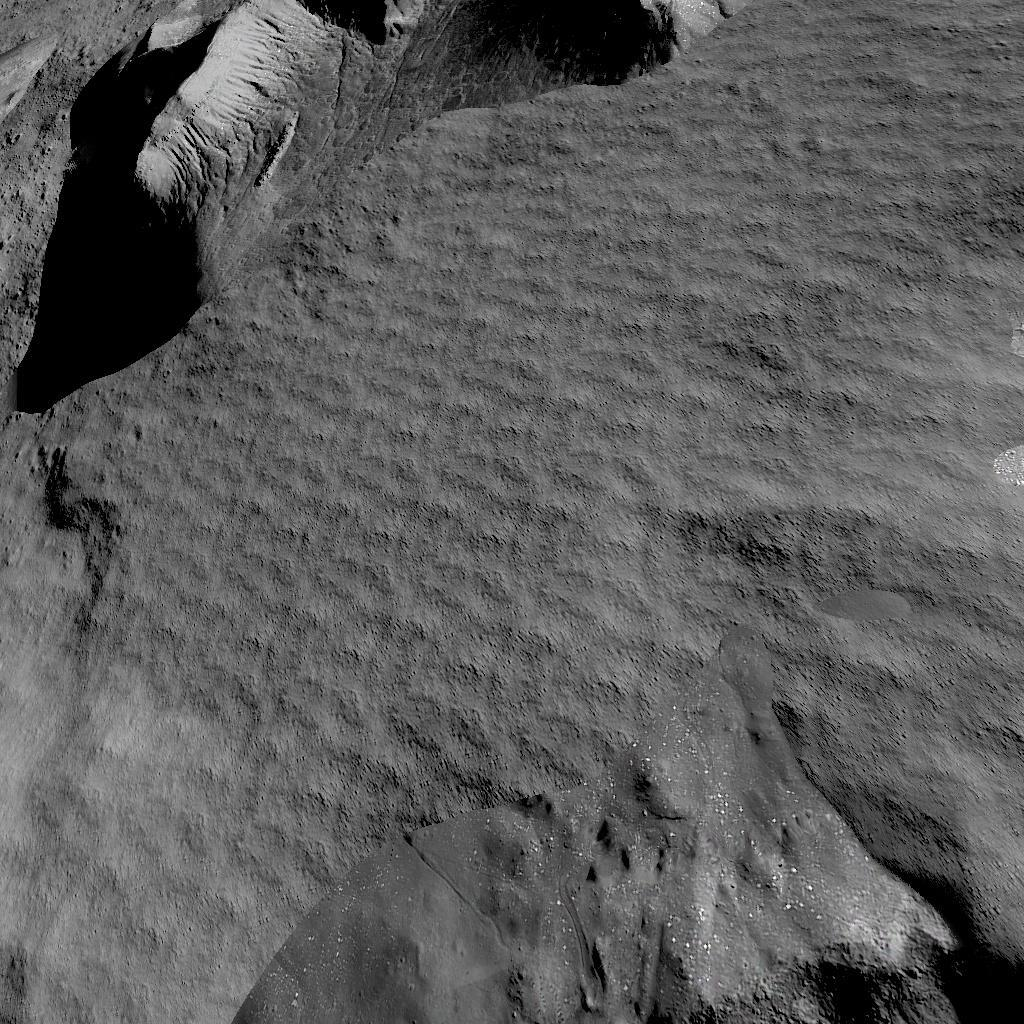Boulders: (0, 0, 727, 418)
Crater: (248, 808, 1024, 1024)
Plan surface: (0, 430, 1024, 795), (743, 0, 1024, 418), (0, 808, 238, 1024)
